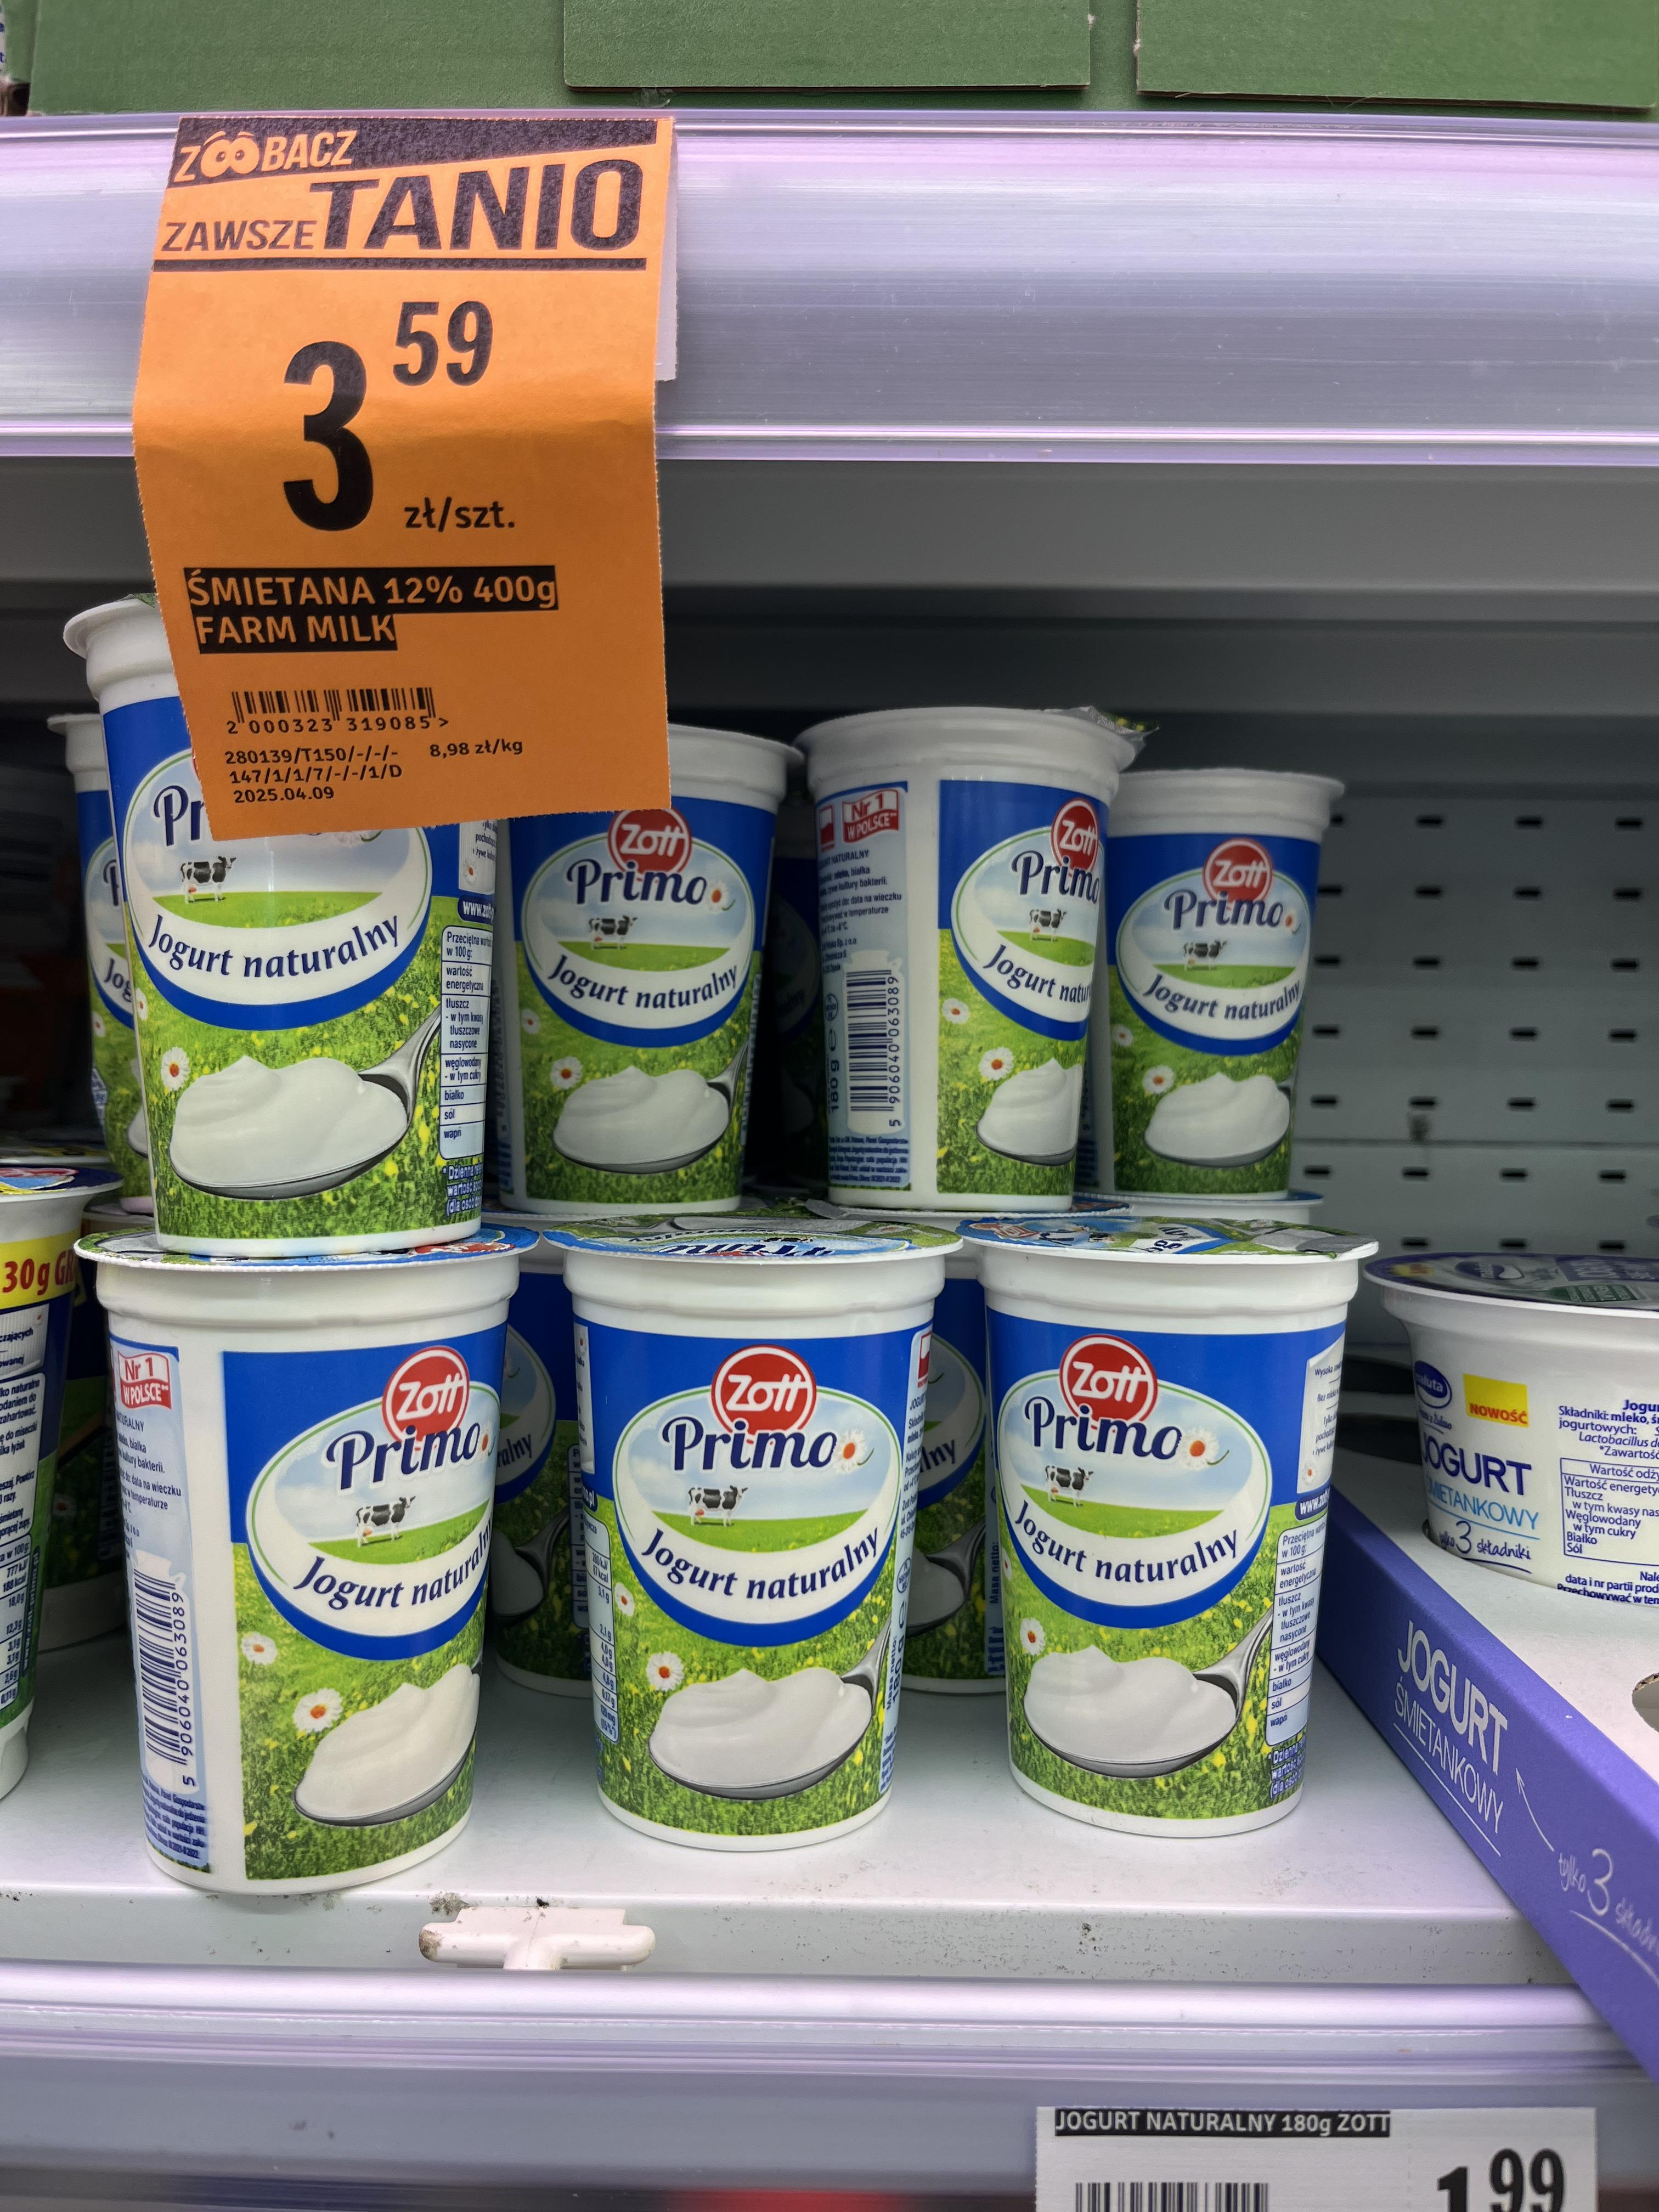Yogurt: (103, 1242, 498, 1879), (972, 1212, 1364, 1818), (565, 1230, 934, 1839), (814, 711, 1127, 1212), (132, 817, 504, 1237), (504, 808, 770, 1226), (1121, 770, 1330, 1184)
